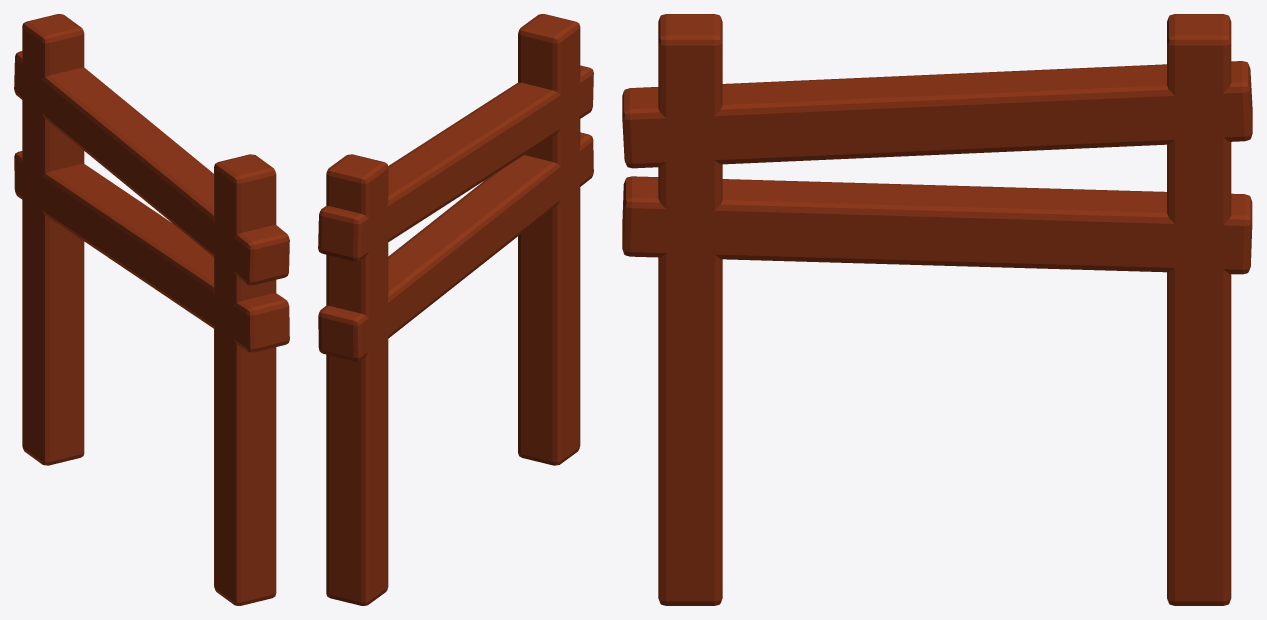
File: fence_b.fbx
3 renders of one model, left to right at view 1: azimuth 30°, elevation 25°; view 2: azimuth 150°, elevation 25°; view 3: azimuth 270°, elevation 25°, orthographic. The views are drawn at different scales.
Parts seen in each view (by area): view 1: log_b; view 2: log_b; view 3: log_b.
Boxes of the visible parts, left/top/right/bottom form: log_b: left=14, top=14, right=289, bottom=605; log_b: left=318, top=14, right=593, bottom=605; log_b: left=622, top=14, right=1252, bottom=605.
Bounding box in the file's own units: 2.43 × 23.69 × 23.75.
